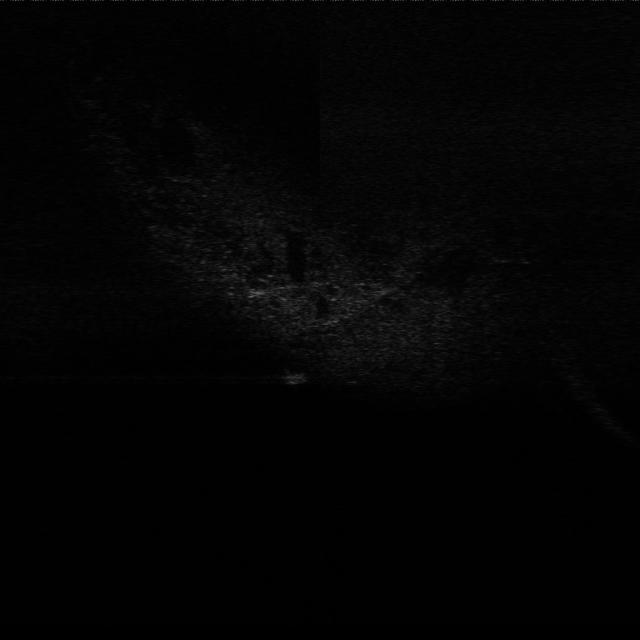cube: (282, 366, 310, 389)
